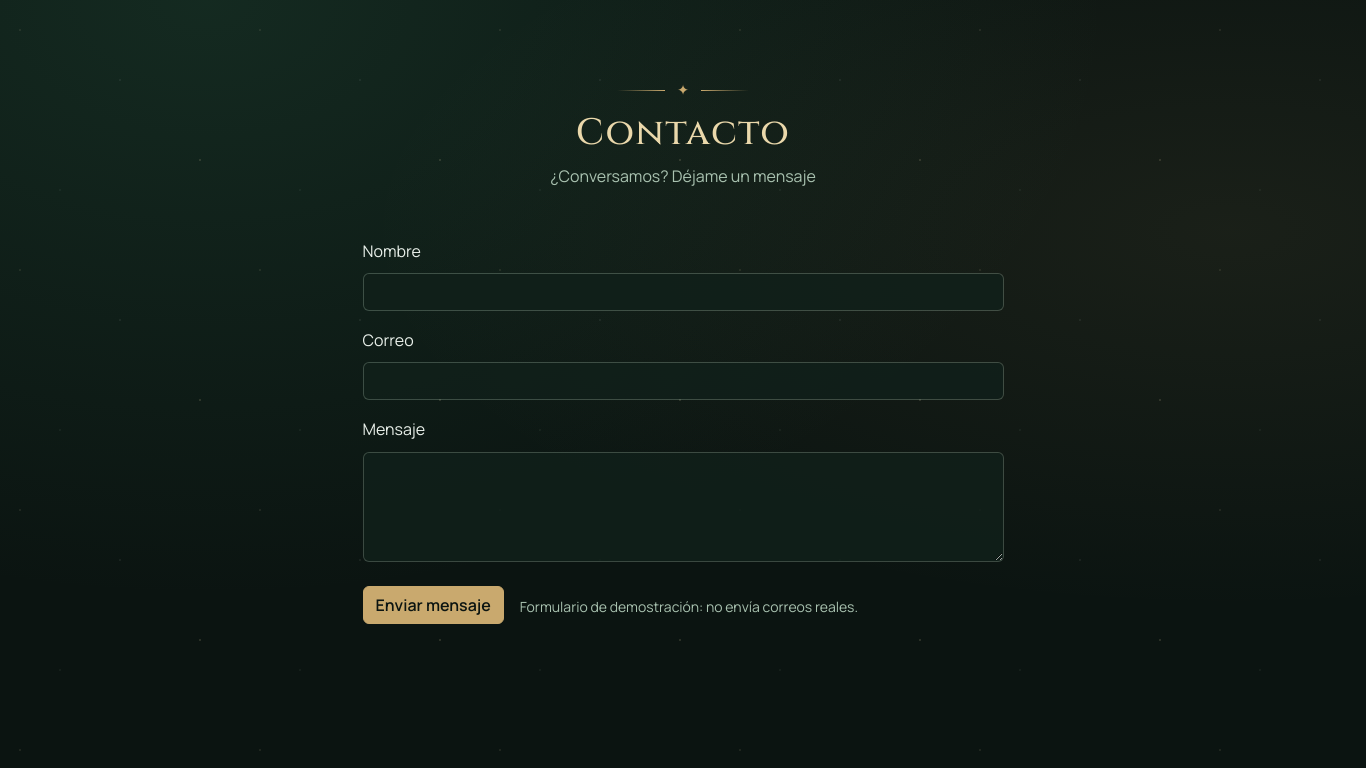
it: FormularioContacto › avisa cuando el correo no tiene formato válido
Type "correo-sin-arroba" into the field labelled "Correo" at [683, 382], box [362, 362, 1004, 400]
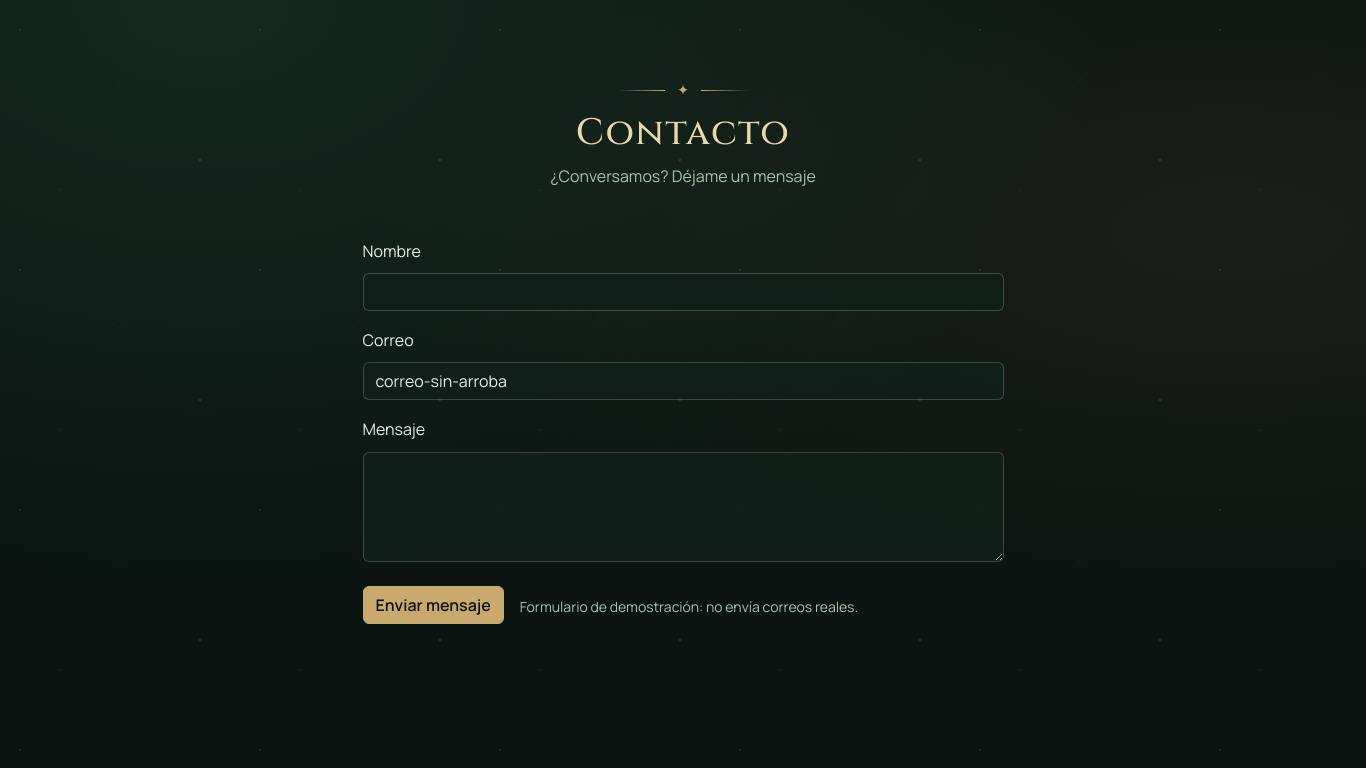
Click the button "Enviar mensaje" at [433, 605], box [362, 586, 504, 624]
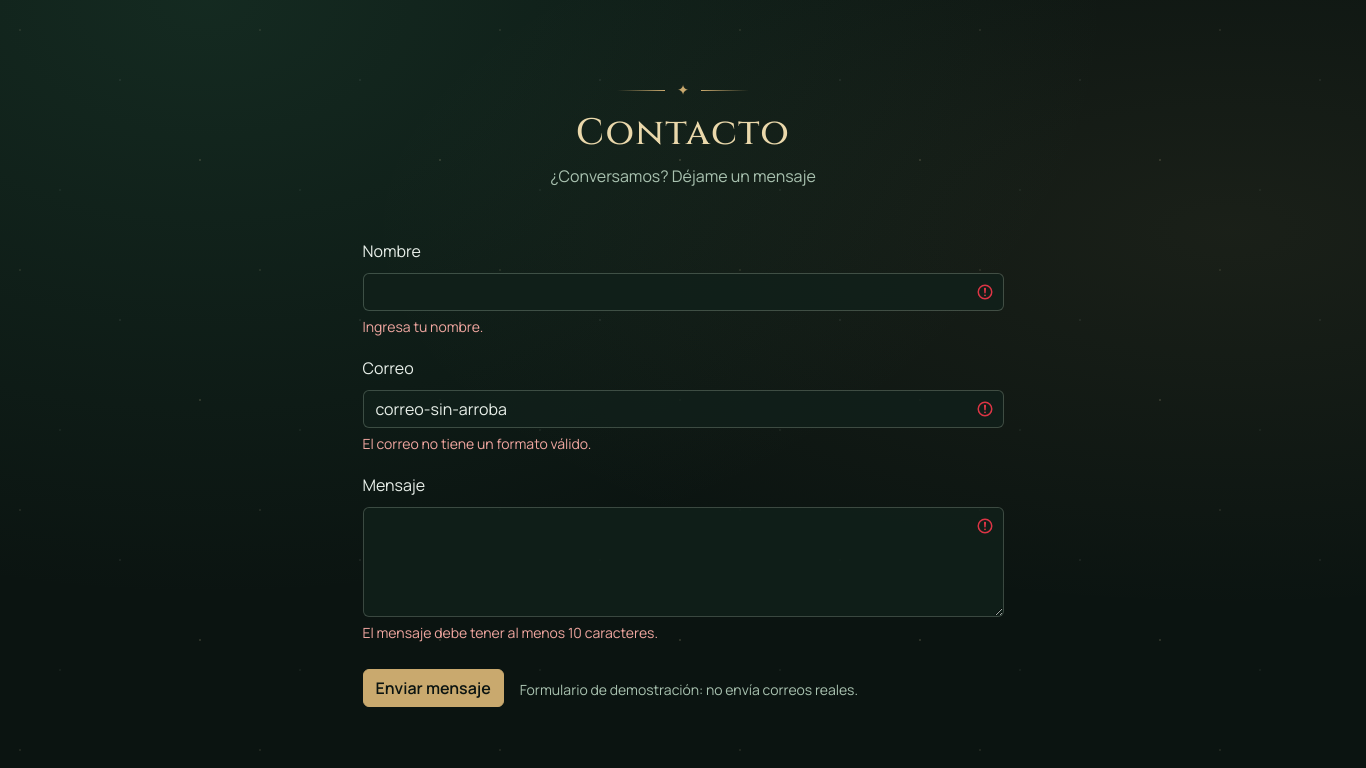
Expected: the text "El correo no tiene un formato válido." is shown, [362, 434, 591, 453]
